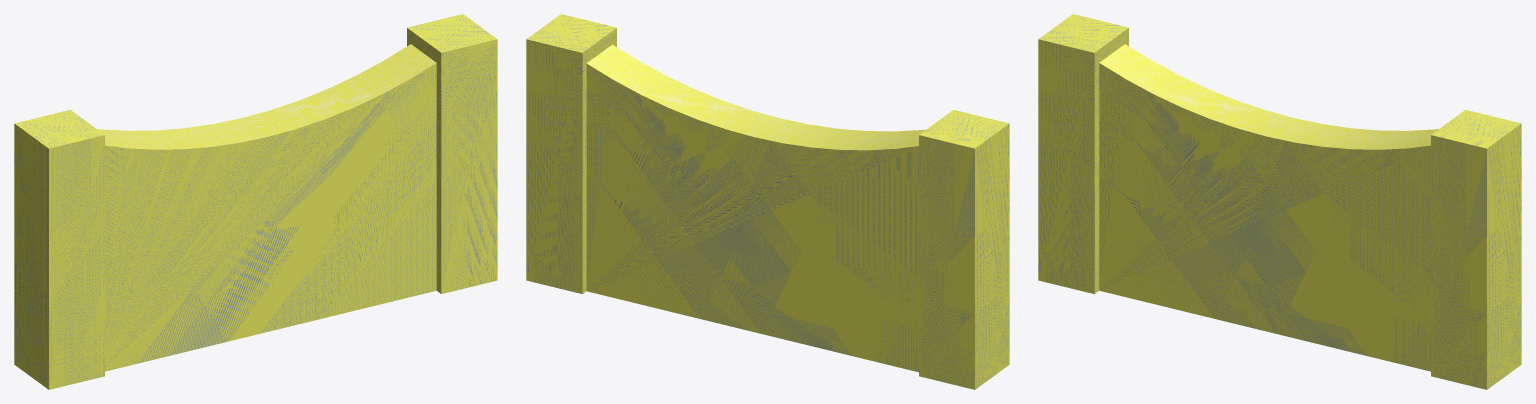
File: pared 1.fbx
The picture shows the model from 3 angles, left to right: view 1: azimuth 30°, elevation 25°; view 2: azimuth 150°, elevation 25°; view 3: azimuth 330°, elevation 25°; orthographic projection.
Parts seen in each view (by area): view 1: Model; view 2: Model; view 3: Model.
Boxes of the visible parts, box(x1,y1,x2,y2) form: Model: box(14, 14, 497, 389); Model: box(526, 14, 1009, 389); Model: box(1038, 14, 1521, 389).
Size of the model in its own units: 27.63 by 14.2 by 3.68.
